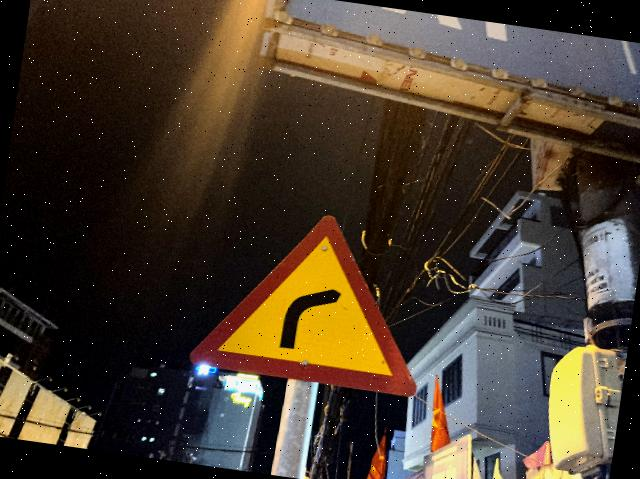cho-ngoat-nguy-hiem-ben-phai: (188, 196, 440, 398)
